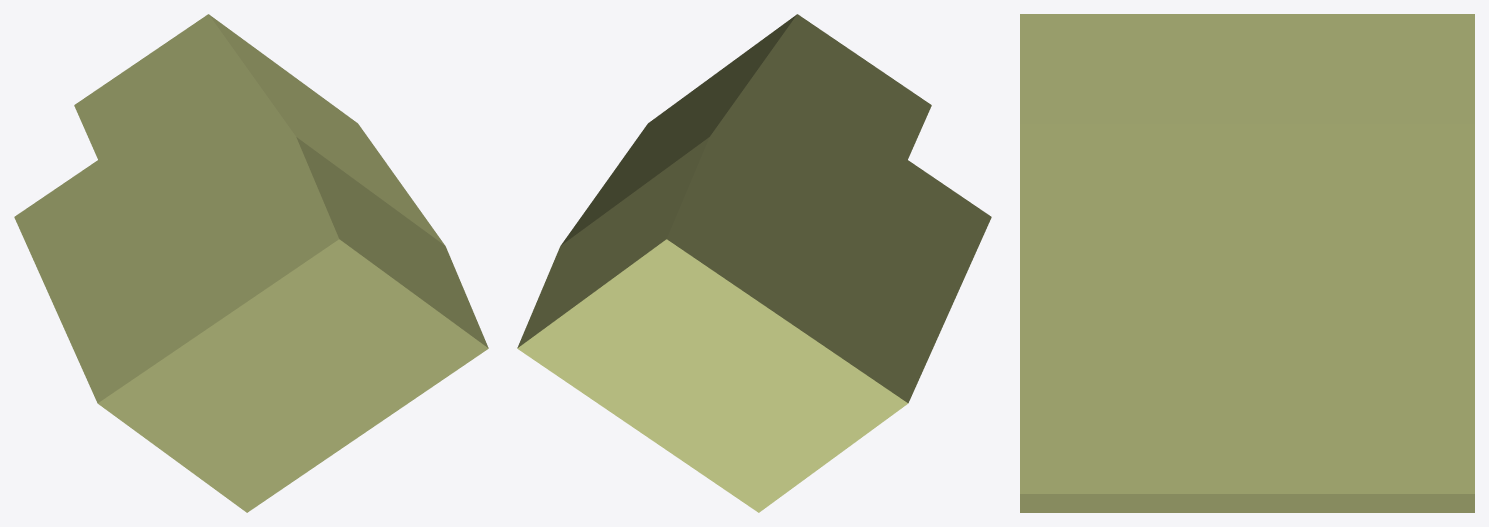
3 views of the same model, side by side, from view 1: azimuth 30°, elevation 25°; view 2: azimuth 150°, elevation 25°; view 3: azimuth 270°, elevation 25° (orthographic). The views are drawn at different scales.
Parts seen in each view (by area): view 1: 0_0_1_2_0_0_3_0_3_3; view 2: 0_0_1_2_0_0_3_0_3_3; view 3: 0_0_1_2_0_0_3_0_3_3.
Part boxes in pixels (x1=…): 0_0_1_2_0_0_3_0_3_3: x1=14, y1=14, x2=488, y2=512; 0_0_1_2_0_0_3_0_3_3: x1=517, y1=14, x2=991, y2=512; 0_0_1_2_0_0_3_0_3_3: x1=1020, y1=14, x2=1474, y2=512.
Bounding box in the file's own units: 11.3 × 12.04 × 9.
